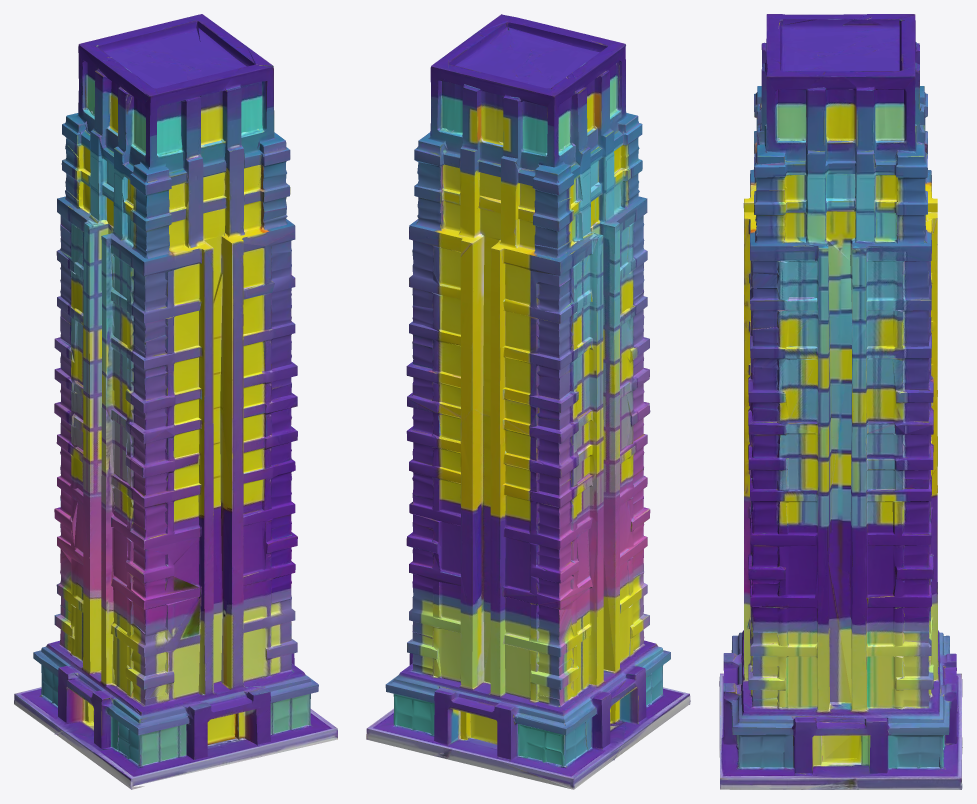
Rendered from scn_citybuilding.glb.
3 views of the same model, side by side, from view 1: azimuth 30°, elevation 25°; view 2: azimuth 150°, elevation 25°; view 3: azimuth 270°, elevation 25° (orthographic). The views are drawn at different scales.
Bounding box in the file's own units: 0.6196 × 1.9 × 0.604.
1 material, 1 textured.
